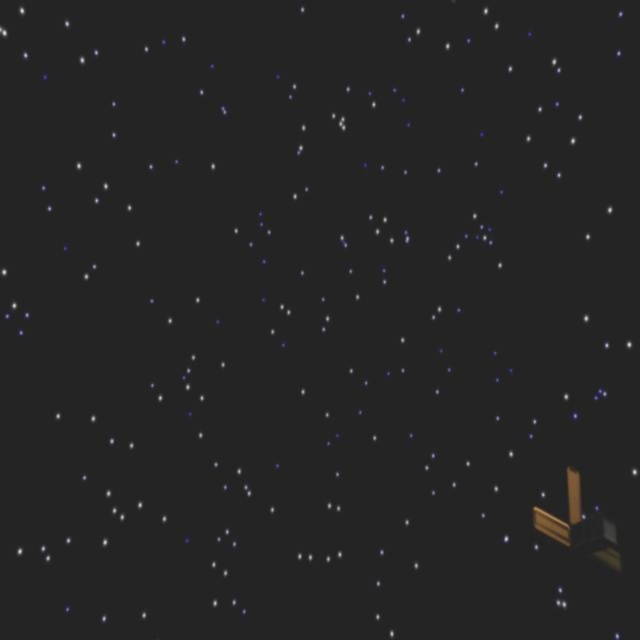medium_debris: (528, 464, 621, 583)
